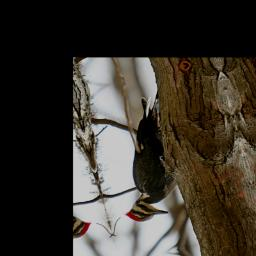Woodpecker: (94, 89, 192, 226)
